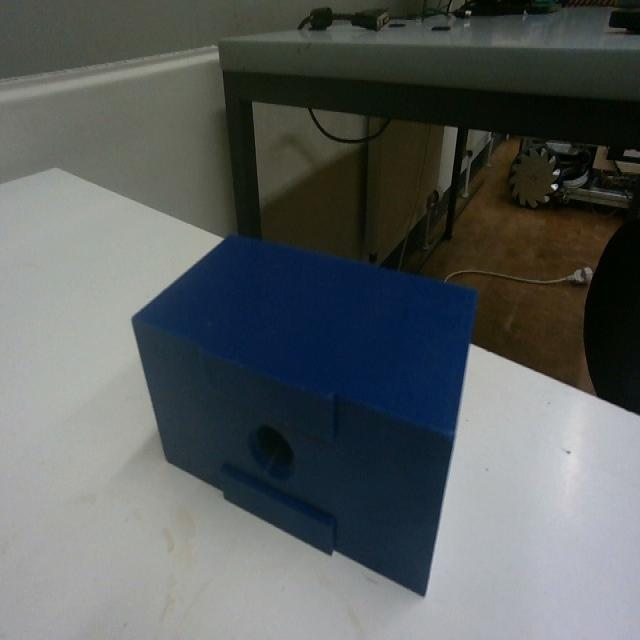Blue Cuboid: (129, 228, 479, 597)
